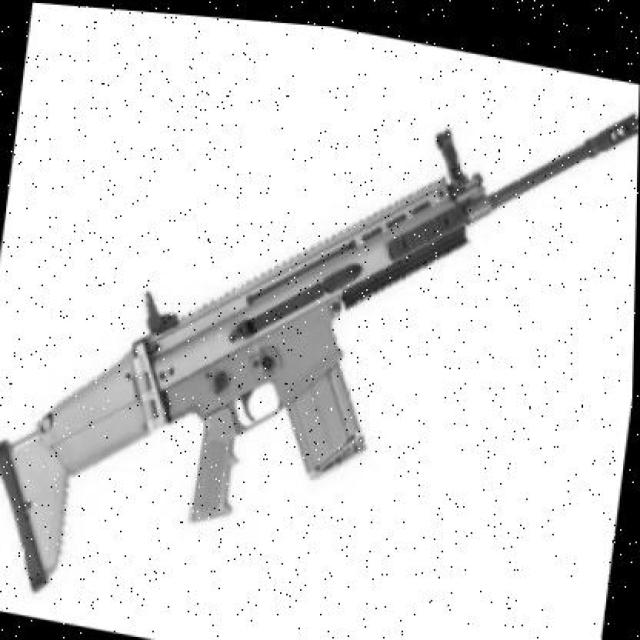weapon: (0, 112, 638, 592)
